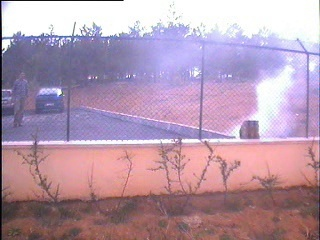smoke: (235, 57, 307, 141)
